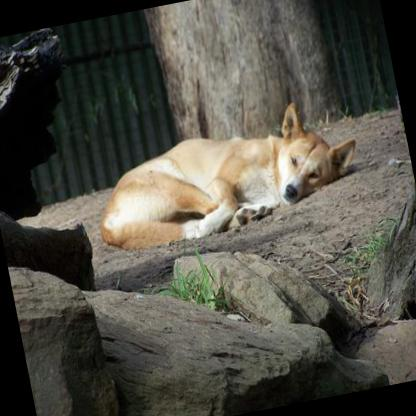dingo: (82, 90, 368, 257)
